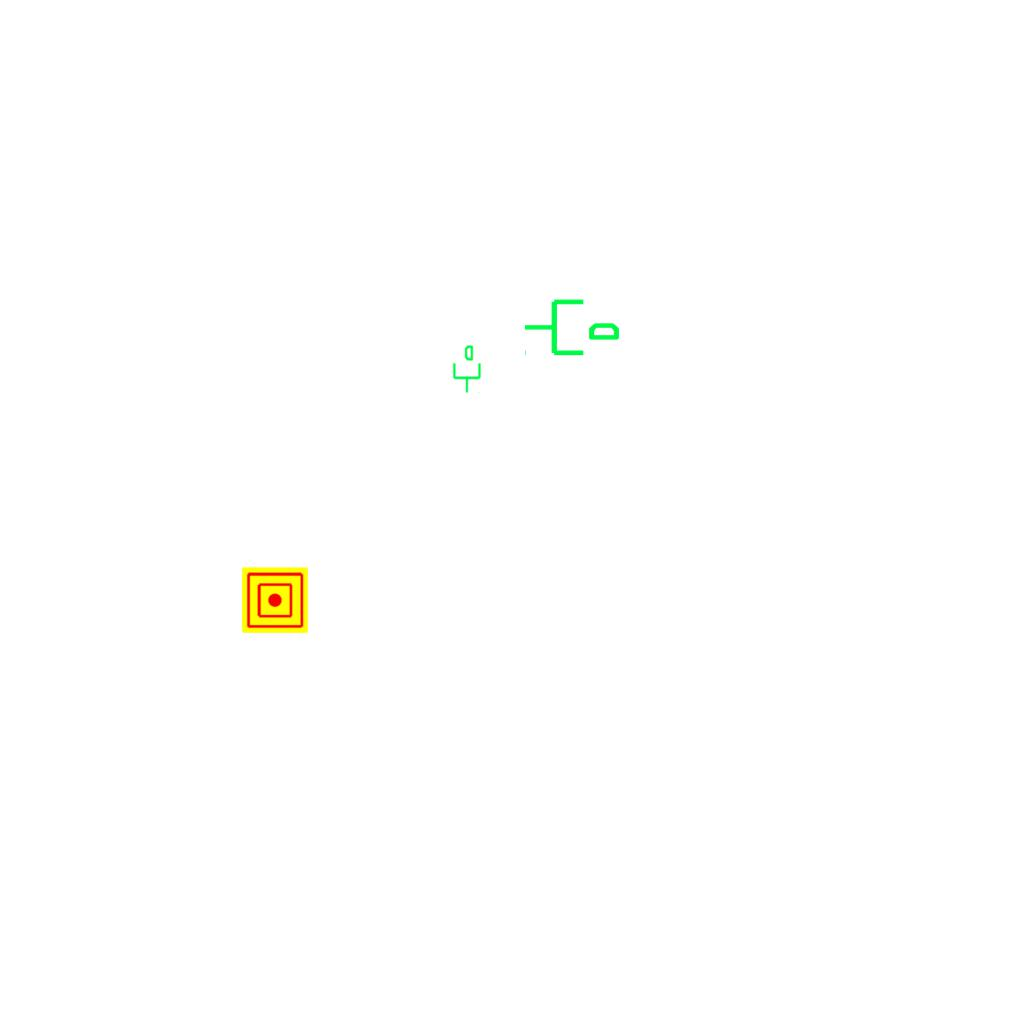Datenanschluss_einfach: (522, 291, 622, 360), (449, 344, 483, 394)
NAM-Nichtautomatischer_Melder: (242, 567, 308, 633)
